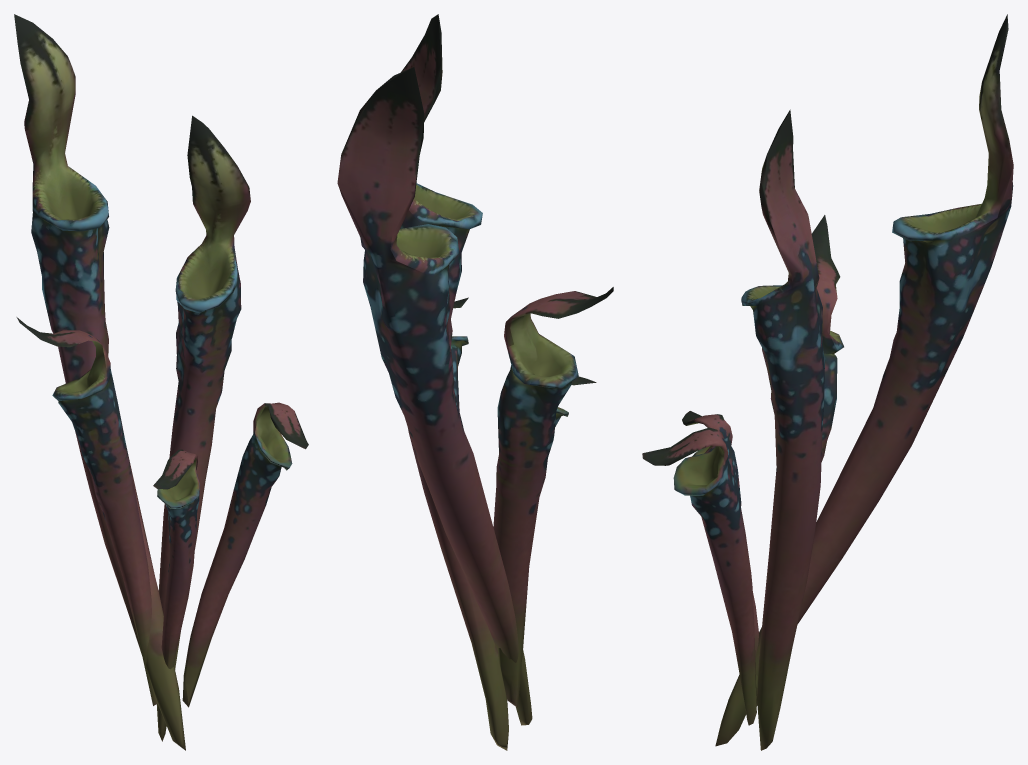
3 renders of one model, left to right at view 1: azimuth 30°, elevation 25°; view 2: azimuth 150°, elevation 25°; view 3: azimuth 270°, elevation 25°, orthographic. The views are drawn at different scales.
Parts seen in each view (by area): view 1: SM_PitcherPlant_01_LOD0; view 2: SM_PitcherPlant_01_LOD0; view 3: SM_PitcherPlant_01_LOD0.
Part boxes in pixels (x1=…): SM_PitcherPlant_01_LOD0: x1=14, y1=14, x2=308, y2=750; SM_PitcherPlant_01_LOD0: x1=337, y1=14, x2=613, y2=750; SM_PitcherPlant_01_LOD0: x1=642, y1=14, x2=1013, y2=750.
Size of the model in its own units: 0.3602 by 1.02 by 0.4774.
Materials: 1 (1 with a texture image).
